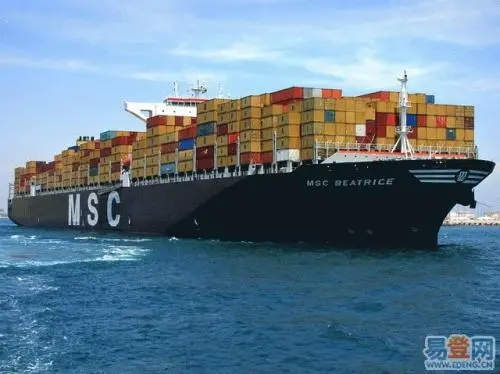Cargoship: (6, 69, 500, 250)
